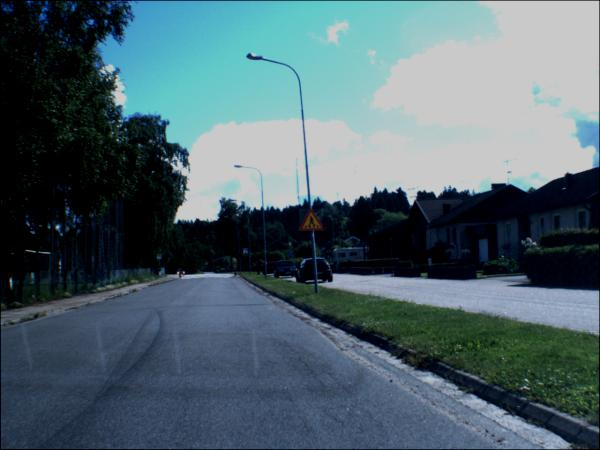NO_PARKING: (239, 255, 244, 259)
PEDESTRIAN_CROSSING: (244, 249, 250, 256), (158, 255, 164, 261)
WARNING: (300, 210, 325, 233)
